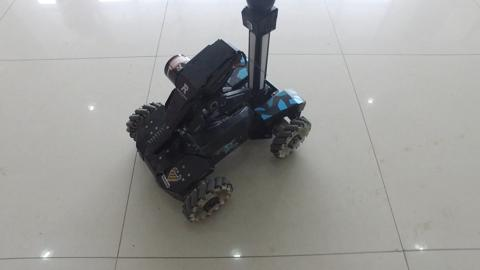chariot: (111, 17, 337, 253)
